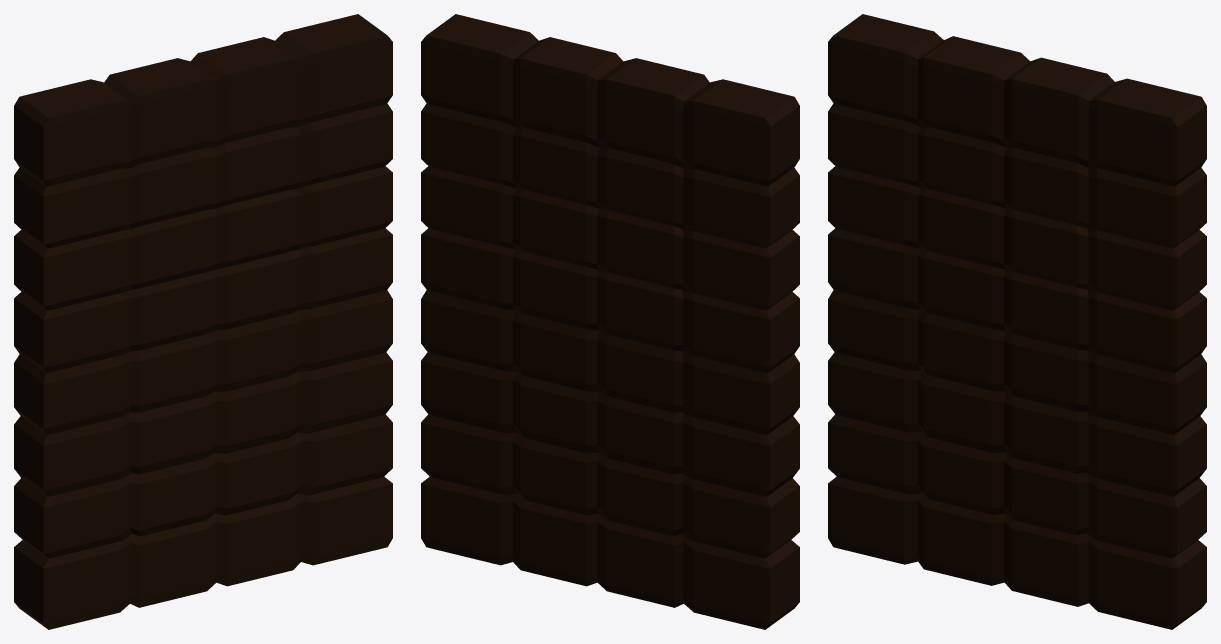
The model's file is BlockWall.fbx.
3 renders of one model, left to right at view 1: azimuth 30°, elevation 25°; view 2: azimuth 150°, elevation 25°; view 3: azimuth 330°, elevation 25°, orthographic.
Parts seen in each view (by area): view 1: Cube; view 2: Cube; view 3: Cube.
Boxes of the visible parts, left/top/right/bottom form: Cube: left=14, top=14, right=392, bottom=629; Cube: left=421, top=14, right=799, bottom=629; Cube: left=828, top=14, right=1206, bottom=629.
Bounding box in the file's own units: 4000 × 5600 × 600.
